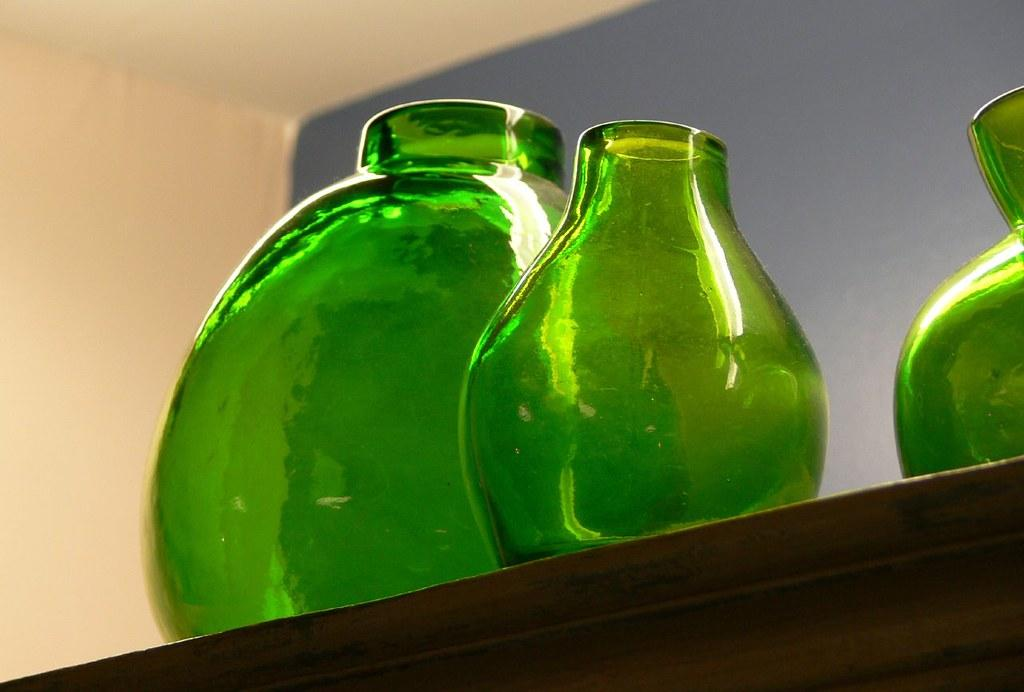bottle: (141, 97, 572, 645), (458, 118, 831, 568), (893, 84, 1024, 480)
